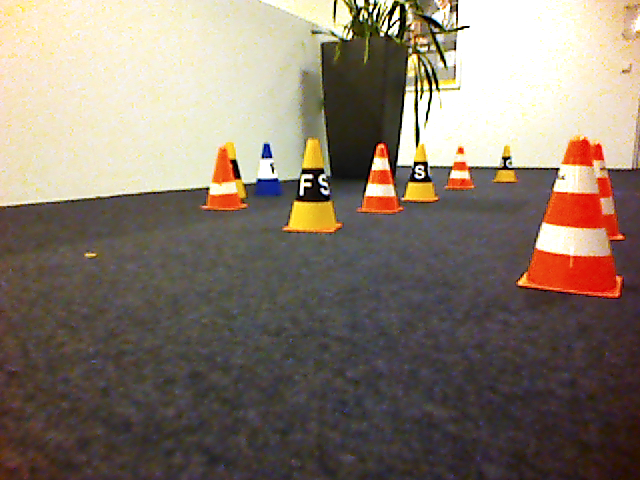bluecone: (253, 142, 286, 197)
orangeconesmall: (517, 136, 624, 300), (359, 143, 404, 213), (445, 147, 477, 191)
yellowcone: (283, 137, 344, 233), (403, 144, 438, 202), (492, 146, 519, 183)
